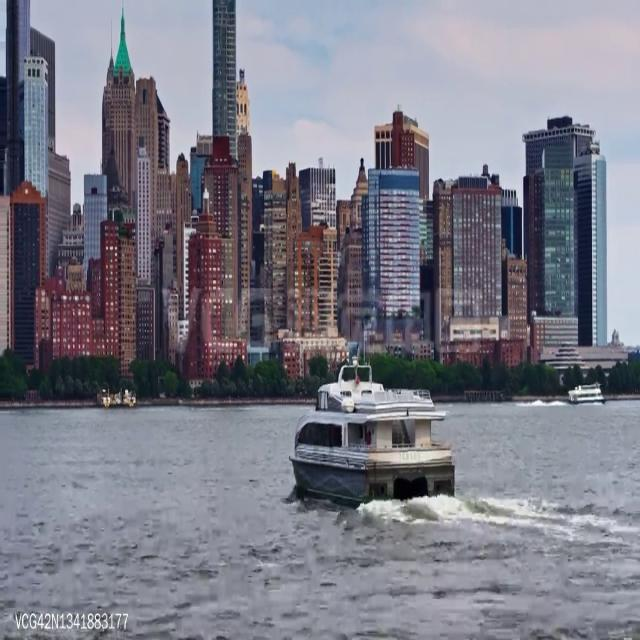houseboat: (289, 355, 455, 512), (570, 382, 606, 409)
